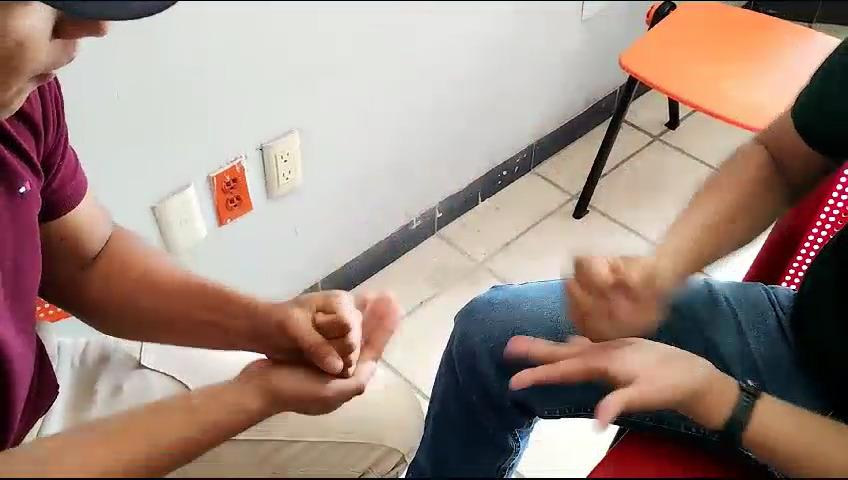Stone: (258, 271, 376, 396)
